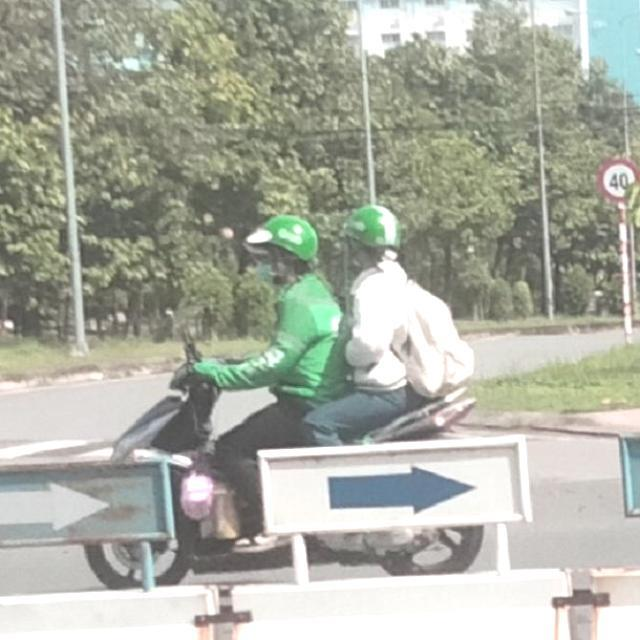Helmet: (245, 216, 318, 288), (342, 204, 399, 266)
